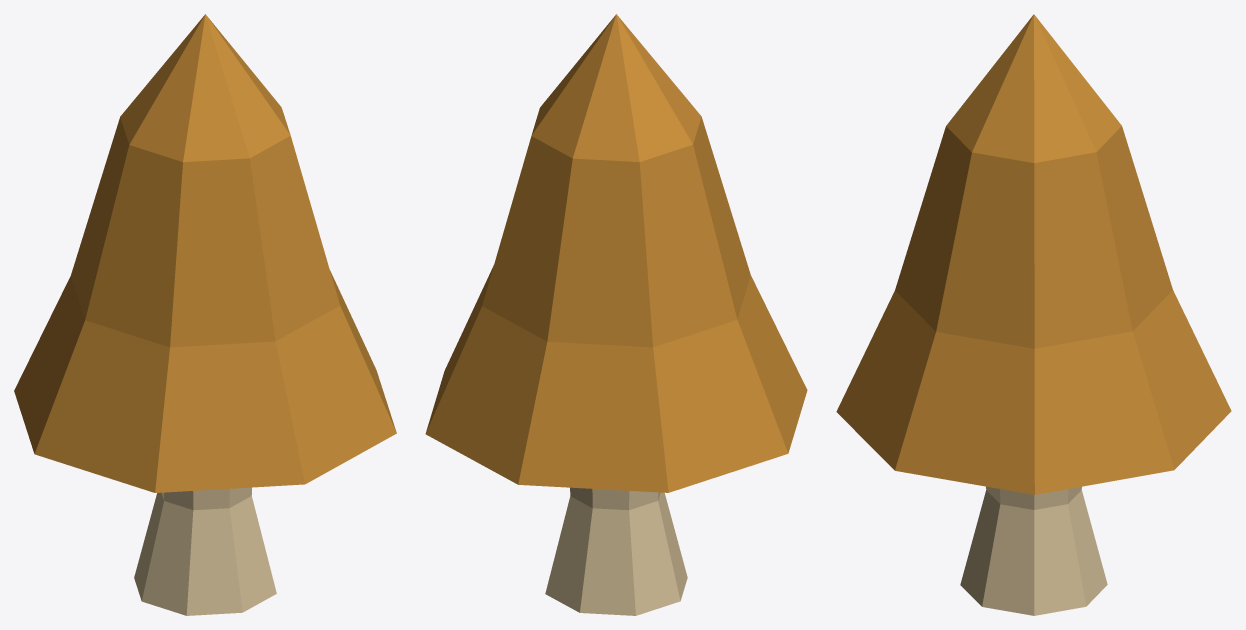
The model's file is Mushroom_18.fbx.
3 renders of one model, left to right at view 1: azimuth 30°, elevation 25°; view 2: azimuth 150°, elevation 25°; view 3: azimuth 270°, elevation 25°, orthographic.
Visible parts, largest first — view 1: Mushroom_18; view 2: Mushroom_18; view 3: Mushroom_18.
Part boxes in pixels (x1,y1,x2,y2): Mushroom_18: (14,14,396,615); Mushroom_18: (425,14,807,615); Mushroom_18: (836,14,1231,615).
Bounding box in the file's own units: 17.07 × 27.2 × 17.07.
